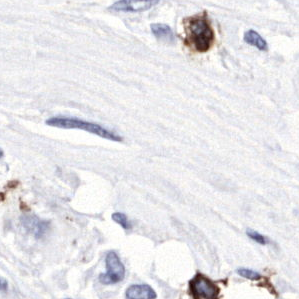Lymphocyte: (179, 10, 220, 54)
